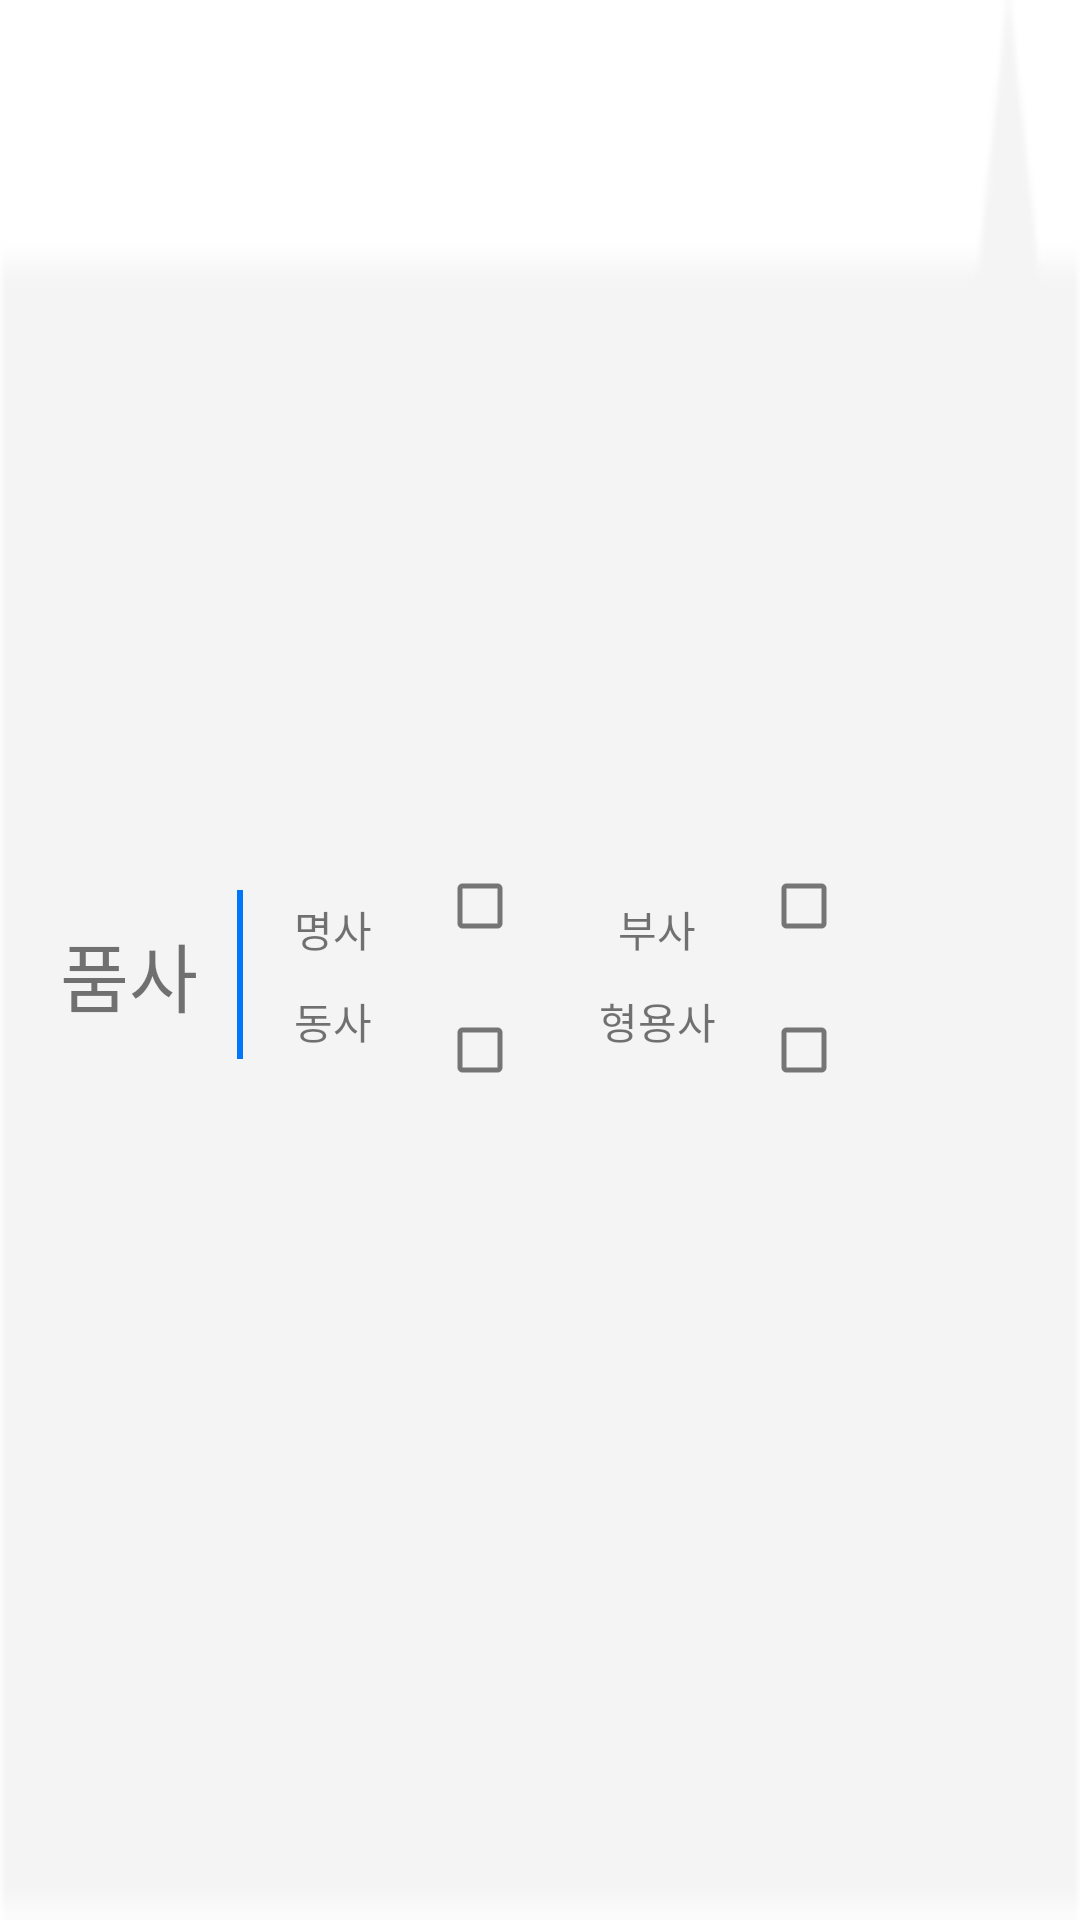

Icons on this 1080×1920 Android screen, each with its box as (x1, y1, x2, y2):
checkbox custom: (457, 883, 503, 929), (781, 883, 827, 929), (457, 1027, 503, 1073), (781, 1027, 827, 1073)
